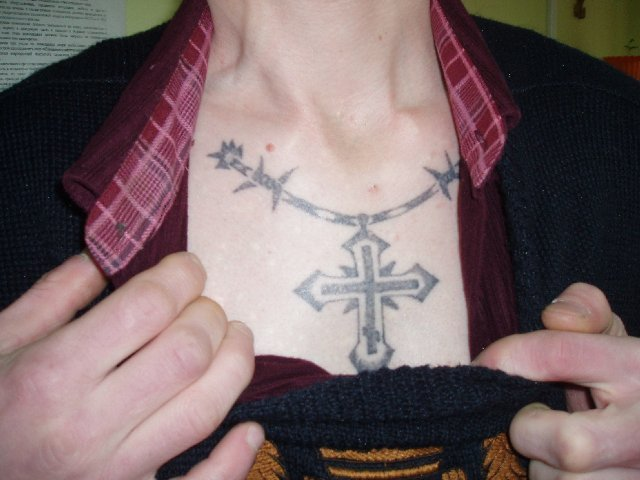tatu9_krest: (289, 221, 442, 374)
